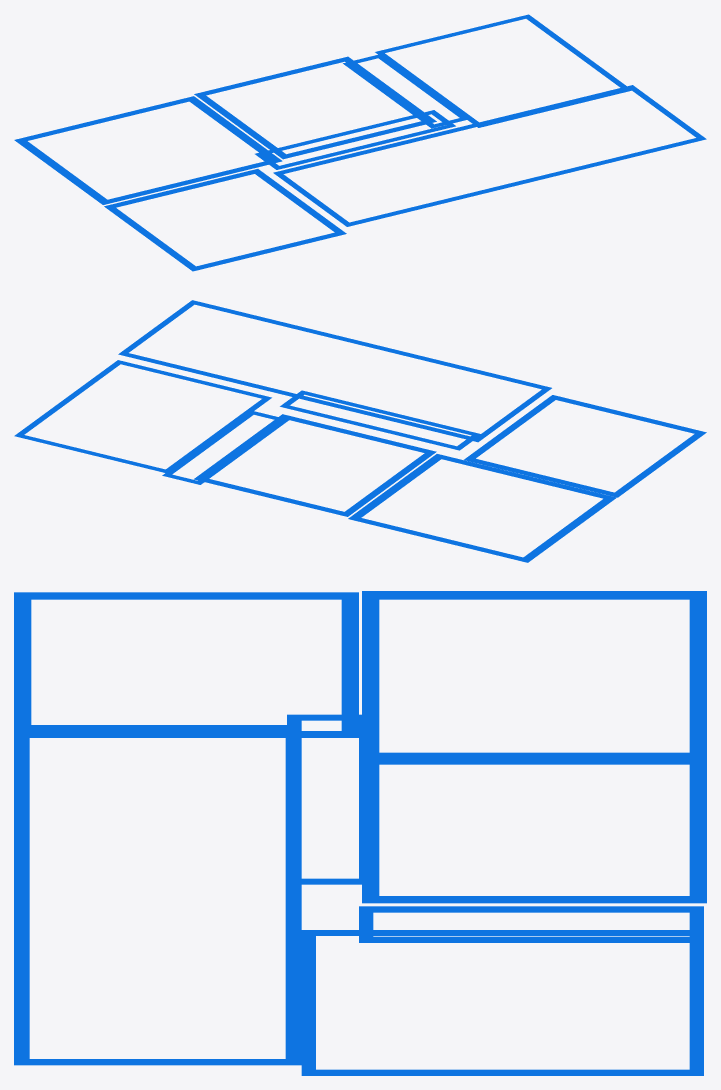
File: SpaceLines.fbx
3 views of the same model, one above another, from view 1: azimuth 30°, elevation 25°; view 2: azimuth 150°, elevation 25°; view 3: azimuth 270°, elevation 25° (orthographic). The views are drawn at different scales.
Parts seen in each view (by area): view 1: SpaceLine4, SpaceLine2, SpaceLine3, SpaceLine1, SpaceLine5, SpaceLine7, SpaceLine6; view 2: SpaceLine4, SpaceLine2, SpaceLine1, SpaceLine3, SpaceLine5, SpaceLine7, SpaceLine6; view 3: SpaceLine4, SpaceLine2, SpaceLine3, SpaceLine5, SpaceLine1, SpaceLine7, SpaceLine6.
Part boxes in pixels (x1=…): SpaceLine4: x1=273, y1=85, x2=706, y2=226; SpaceLine2: x1=14, y1=96, x2=282, y2=204; SpaceLine3: x1=104, y1=169, x2=346, y2=271; SpaceLine1: x1=194, y1=56, x2=436, y2=159; SpaceLine5: x1=375, y1=14, x2=631, y2=127; SpaceLine7: x1=255, y1=110, x2=455, y2=169; SpaceLine6: x1=343, y1=55, x2=466, y2=128; SpaceLine4: x1=118, y1=300, x2=551, y2=442; SpaceLine2: x1=348, y1=454, x2=616, y2=562; SpaceLine1: x1=194, y1=414, x2=436, y2=516; SpaceLine3: x1=464, y1=395, x2=706, y2=497; SpaceLine5: x1=14, y1=360, x2=271, y2=473; SpaceLine7: x1=280, y1=390, x2=481, y2=450; SpaceLine6: x1=162, y1=411, x2=288, y2=484; SpaceLine4: x1=14, y1=725, x2=301, y2=1065; SpaceLine2: x1=362, y1=591, x2=706, y2=757; SpaceLine3: x1=14, y1=592, x2=358, y2=737; SpaceLine5: x1=301, y1=930, x2=703, y2=1075; SpaceLine1: x1=362, y1=757, x2=706, y2=903; SpaceLine7: x1=287, y1=714, x2=373, y2=884; SpaceLine6: x1=359, y1=906, x2=703, y2=942.
Bounding box in the file's own units: 400 × 10.66 × 241.
